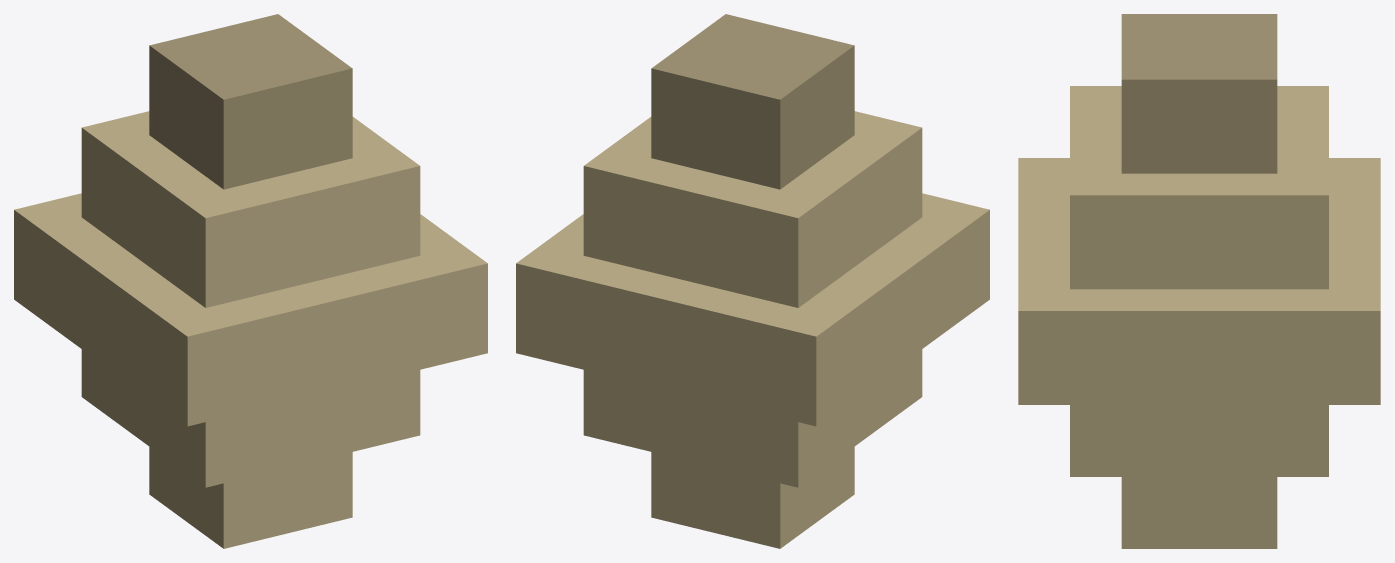
File: cesta_pan_01.glb
The picture shows the model from 3 angles, left to right: view 1: azimuth 30°, elevation 25°; view 2: azimuth 150°, elevation 25°; view 3: azimuth 270°, elevation 25°; orthographic projection. The views are drawn at different scales.
Visible parts, largest first — view 1: cesta_pan; view 2: cesta_pan; view 3: cesta_pan.
Boxes of the visible parts, x1,y1,x2,y2 form: cesta_pan: [14, 14, 487, 548]; cesta_pan: [516, 14, 989, 548]; cesta_pan: [1018, 14, 1380, 548].
Bounding box in the file's own units: 0.5833 × 0.8333 × 0.5833.
